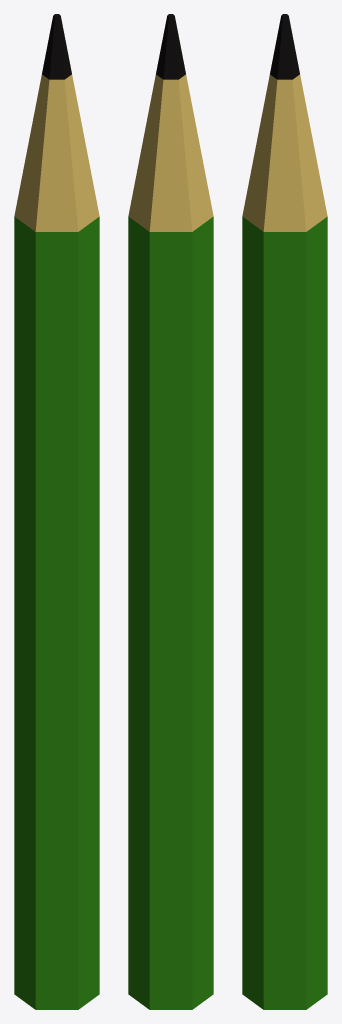
File: pencil.fbx
The picture shows the model from 3 angles, left to right: view 1: azimuth 90°, elevation 25°; view 2: azimuth 210°, elevation 25°; view 3: azimuth 270°, elevation 25°; orthographic projection.
Visible parts, largest first — view 1: 円柱; view 2: 円柱; view 3: 円柱.
Part boxes in pixels (x1,y1,x2,y2): 円柱: [14, 14, 99, 1009]; 円柱: [128, 14, 213, 1009]; 円柱: [242, 14, 327, 1009].
Size of the model in its own units: 71.37 by 1043 by 82.41.
